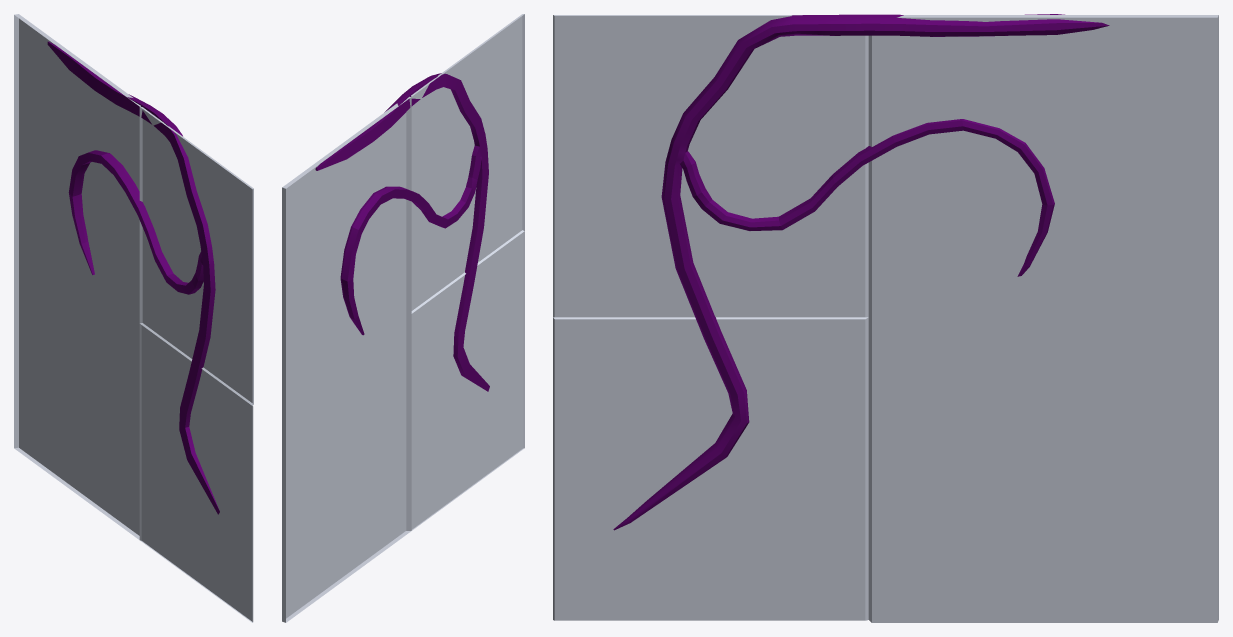
The model's file is Pared_Corrupta_02.fbx.
3 views of the same model, side by side, from view 1: azimuth 30°, elevation 25°; view 2: azimuth 150°, elevation 25°; view 3: azimuth 270°, elevation 25° (orthographic). The views are drawn at different scales.
Parts seen in each view (by area): view 1: polySurface56, pCube178; view 2: polySurface56, pCube178; view 3: polySurface56, pCube178.
Part boxes in pixels (x1,y1,x2,y2): polySurface56: [14, 14, 253, 622]; pCube178: [47, 41, 219, 514]; polySurface56: [282, 14, 524, 622]; pCube178: [315, 73, 489, 391]; polySurface56: [553, 15, 1218, 622]; pCube178: [613, 14, 1109, 530].
Bounding box in the file's own units: 0.2424 × 6.02 × 5.98.
